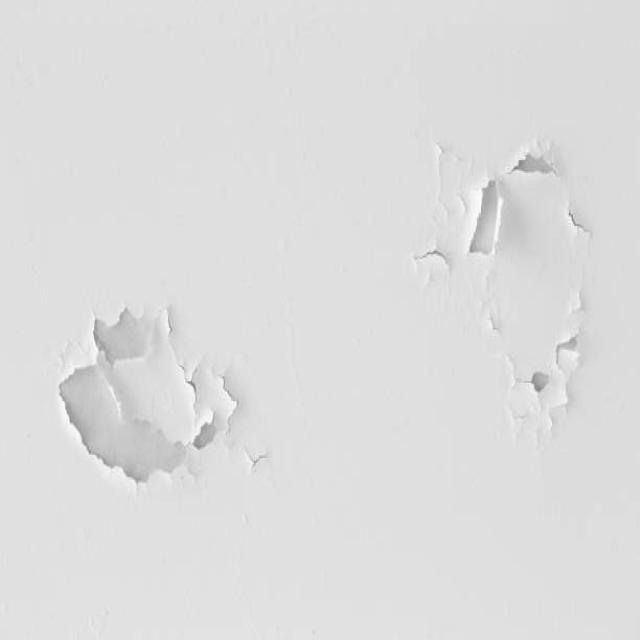peeling paint: (408, 114, 609, 469), (46, 290, 276, 529)
